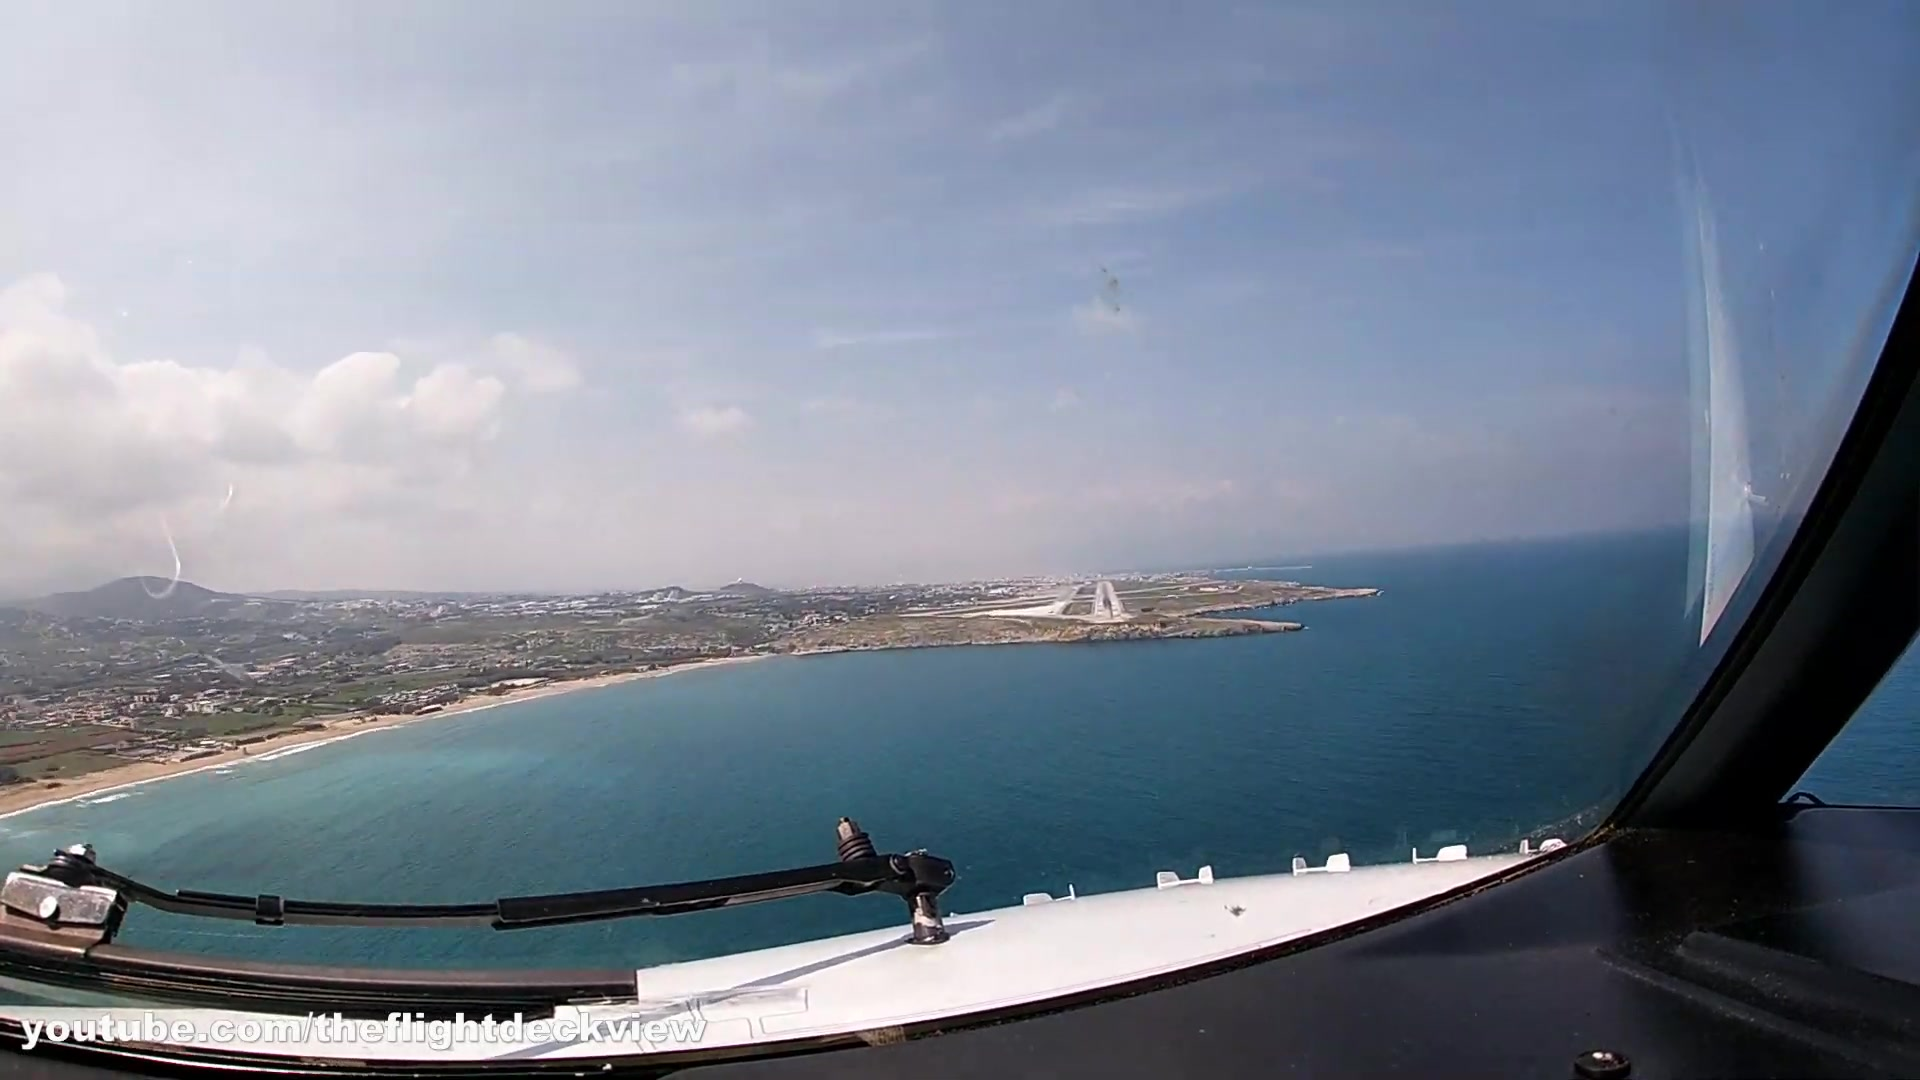runway: (1091, 579, 1126, 624)
